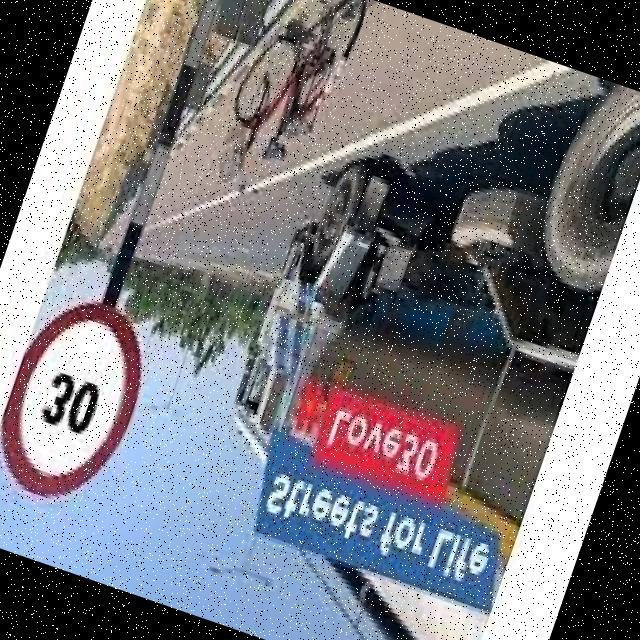speed_limit_30: (0, 277, 172, 524)
